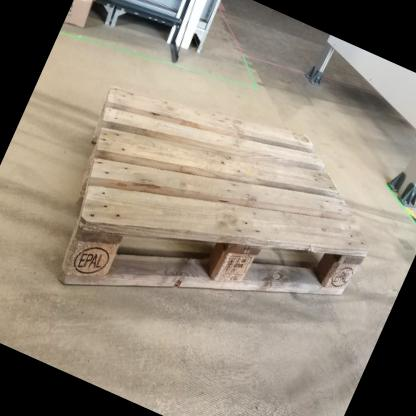BoxFace: (50, 79, 375, 301)
